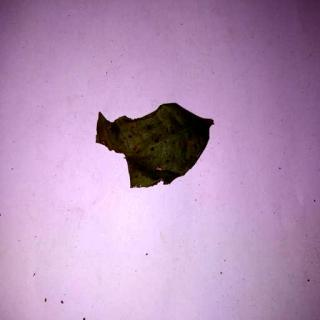Bird Eye Spot: (96, 102, 215, 190)
